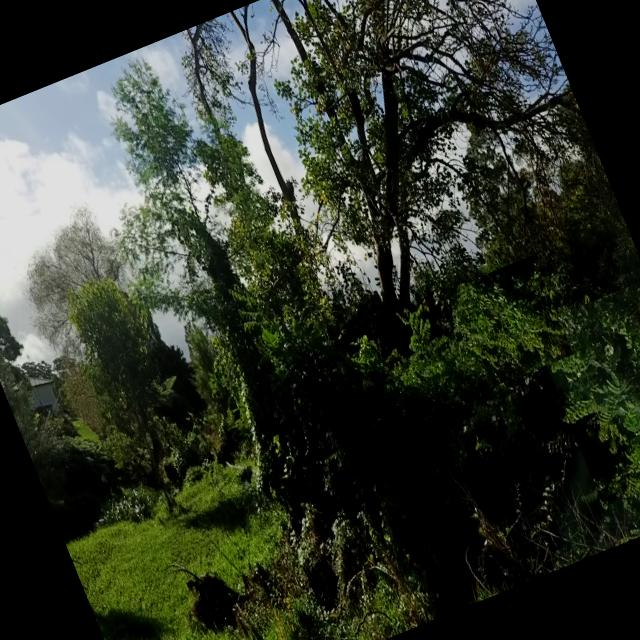Mysore-Thorn-Weed: (530, 278, 640, 506), (449, 254, 574, 387), (392, 294, 463, 391), (228, 272, 286, 354)
